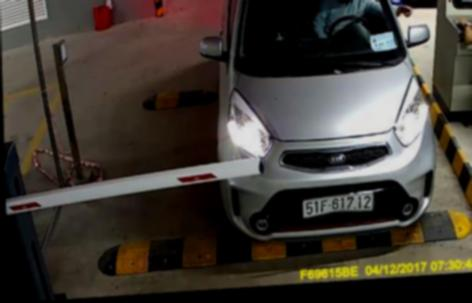License_Plate: (299, 188, 375, 218)
